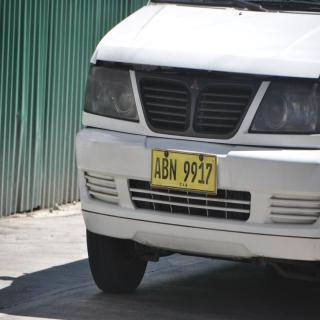license: (152, 150, 218, 195)
